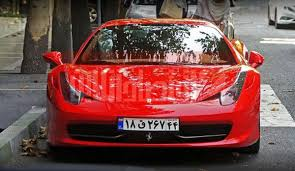car: (117, 118, 179, 131)
